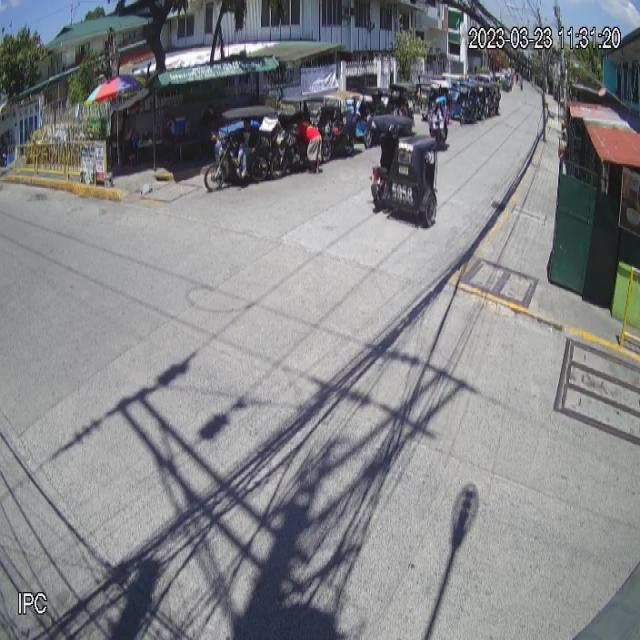Tricycle: (366, 112, 438, 229)
